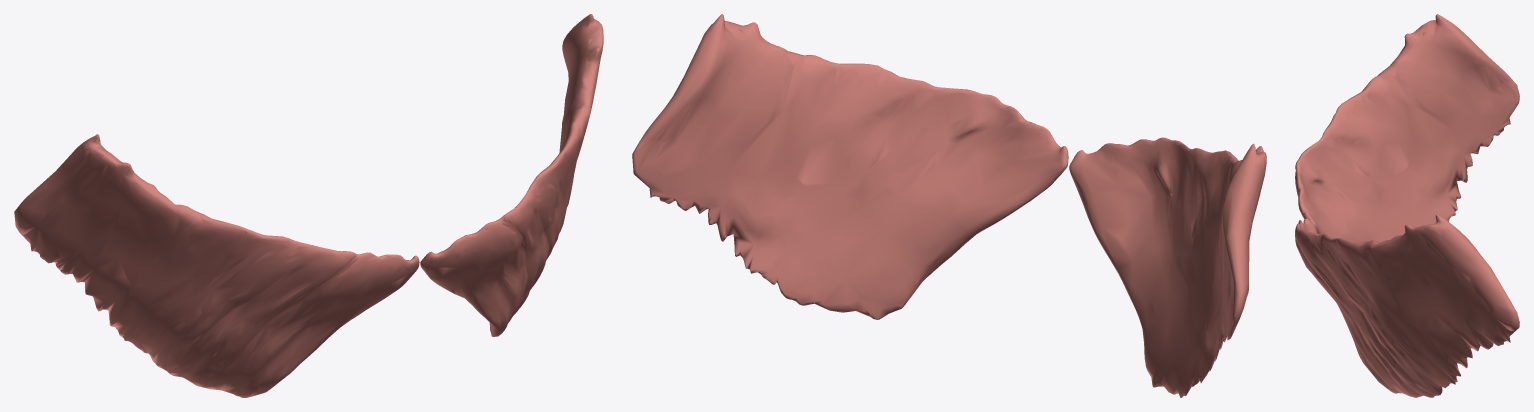
The model's file is depressor_labii_inferioris_lod1.glb.
3 views of the same model, side by side, from view 1: azimuth 30°, elevation 25°; view 2: azimuth 150°, elevation 25°; view 3: azimuth 270°, elevation 25° (orthographic). The views are drawn at different scales.
Visible parts, largest first — view 1: depressor_labii_inferioris_R_lod1, depressor_labii_inferioris_L_lod1; view 2: depressor_labii_inferioris_L_lod1, depressor_labii_inferioris_R_lod1; view 3: depressor_labii_inferioris_R_lod1, depressor_labii_inferioris_L_lod1.
Part boxes in pixels (left/top/right/bottom): depressor_labii_inferioris_R_lod1: left=14, top=134, right=419, bottom=397; depressor_labii_inferioris_L_lod1: left=420, top=14, right=603, bottom=336; depressor_labii_inferioris_L_lod1: left=632, top=14, right=1068, bottom=319; depressor_labii_inferioris_R_lod1: left=1069, top=137, right=1266, bottom=397; depressor_labii_inferioris_R_lod1: left=1295, top=14, right=1519, bottom=242; depressor_labii_inferioris_L_lod1: left=1295, top=214, right=1519, bottom=397.
Size of the model in its own units: 0.0646 by 0.0299 by 0.0268.
